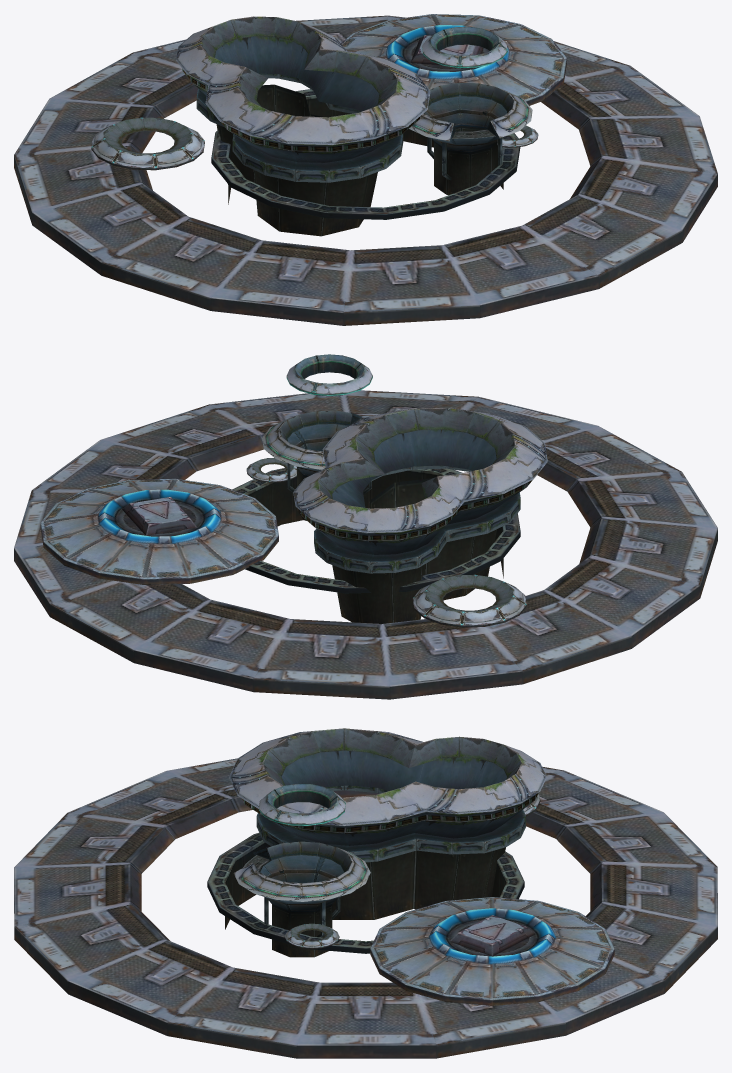
The model's file is yw_gonghuilingdi_jianzhu02.FBX.
3 views of the same model, one above another, from view 1: azimuth 30°, elevation 25°; view 2: azimuth 150°, elevation 25°; view 3: azimuth 270°, elevation 25° (orthographic).
Visible parts, largest first — view 1: yw_gonghuilingdi_jianzhu02; view 2: yw_gonghuilingdi_jianzhu02; view 3: yw_gonghuilingdi_jianzhu02.
Part boxes in pixels (box(x1,y1,x2,y2)): yw_gonghuilingdi_jianzhu02: box(14, 14, 717, 325); yw_gonghuilingdi_jianzhu02: box(14, 354, 717, 699); yw_gonghuilingdi_jianzhu02: box(14, 728, 717, 1058).
Size of the model in its own units: 748 by 194 by 748.
